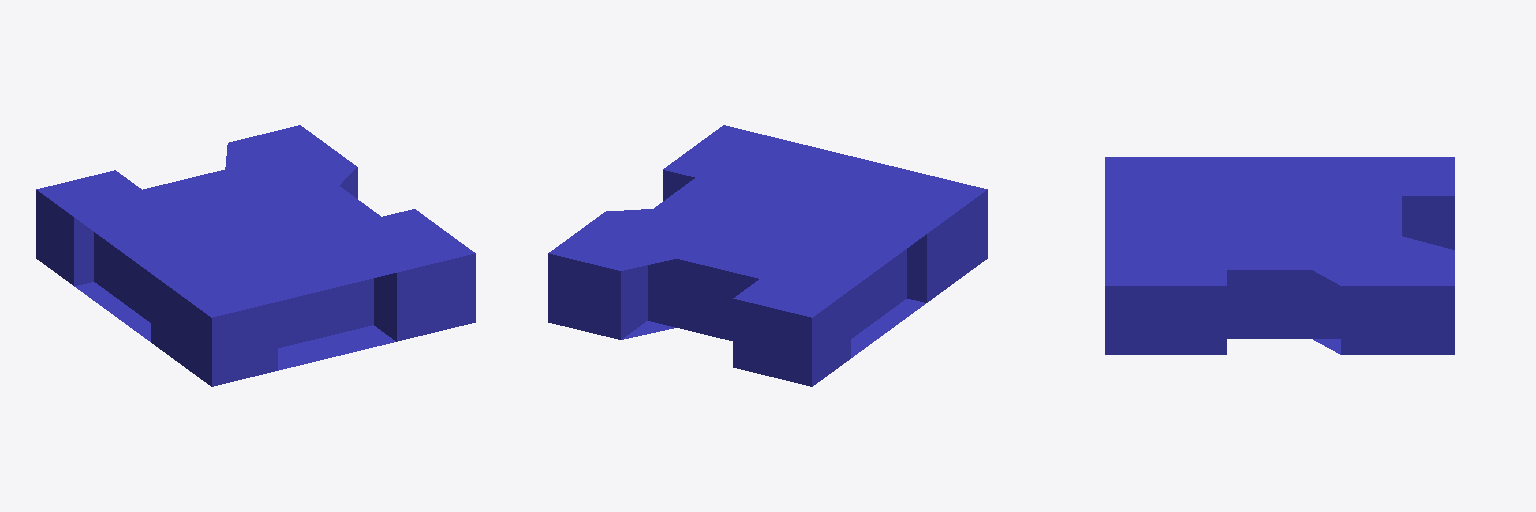
File: building2.obj
3 renders of one model, left to right at view 1: azimuth 30°, elevation 25°; view 2: azimuth 150°, elevation 25°; view 3: azimuth 270°, elevation 25°, orthographic.
Parts seen in each view (by area): view 1: building2; view 2: building2; view 3: building2.
Boxes of the visible parts, <box> form: building2: <box>36,125,475,386</box>; building2: <box>548,125,987,386</box>; building2: <box>1105,157,1454,354</box>.
Bounding box in the file's own units: 40 × 10 × 46.